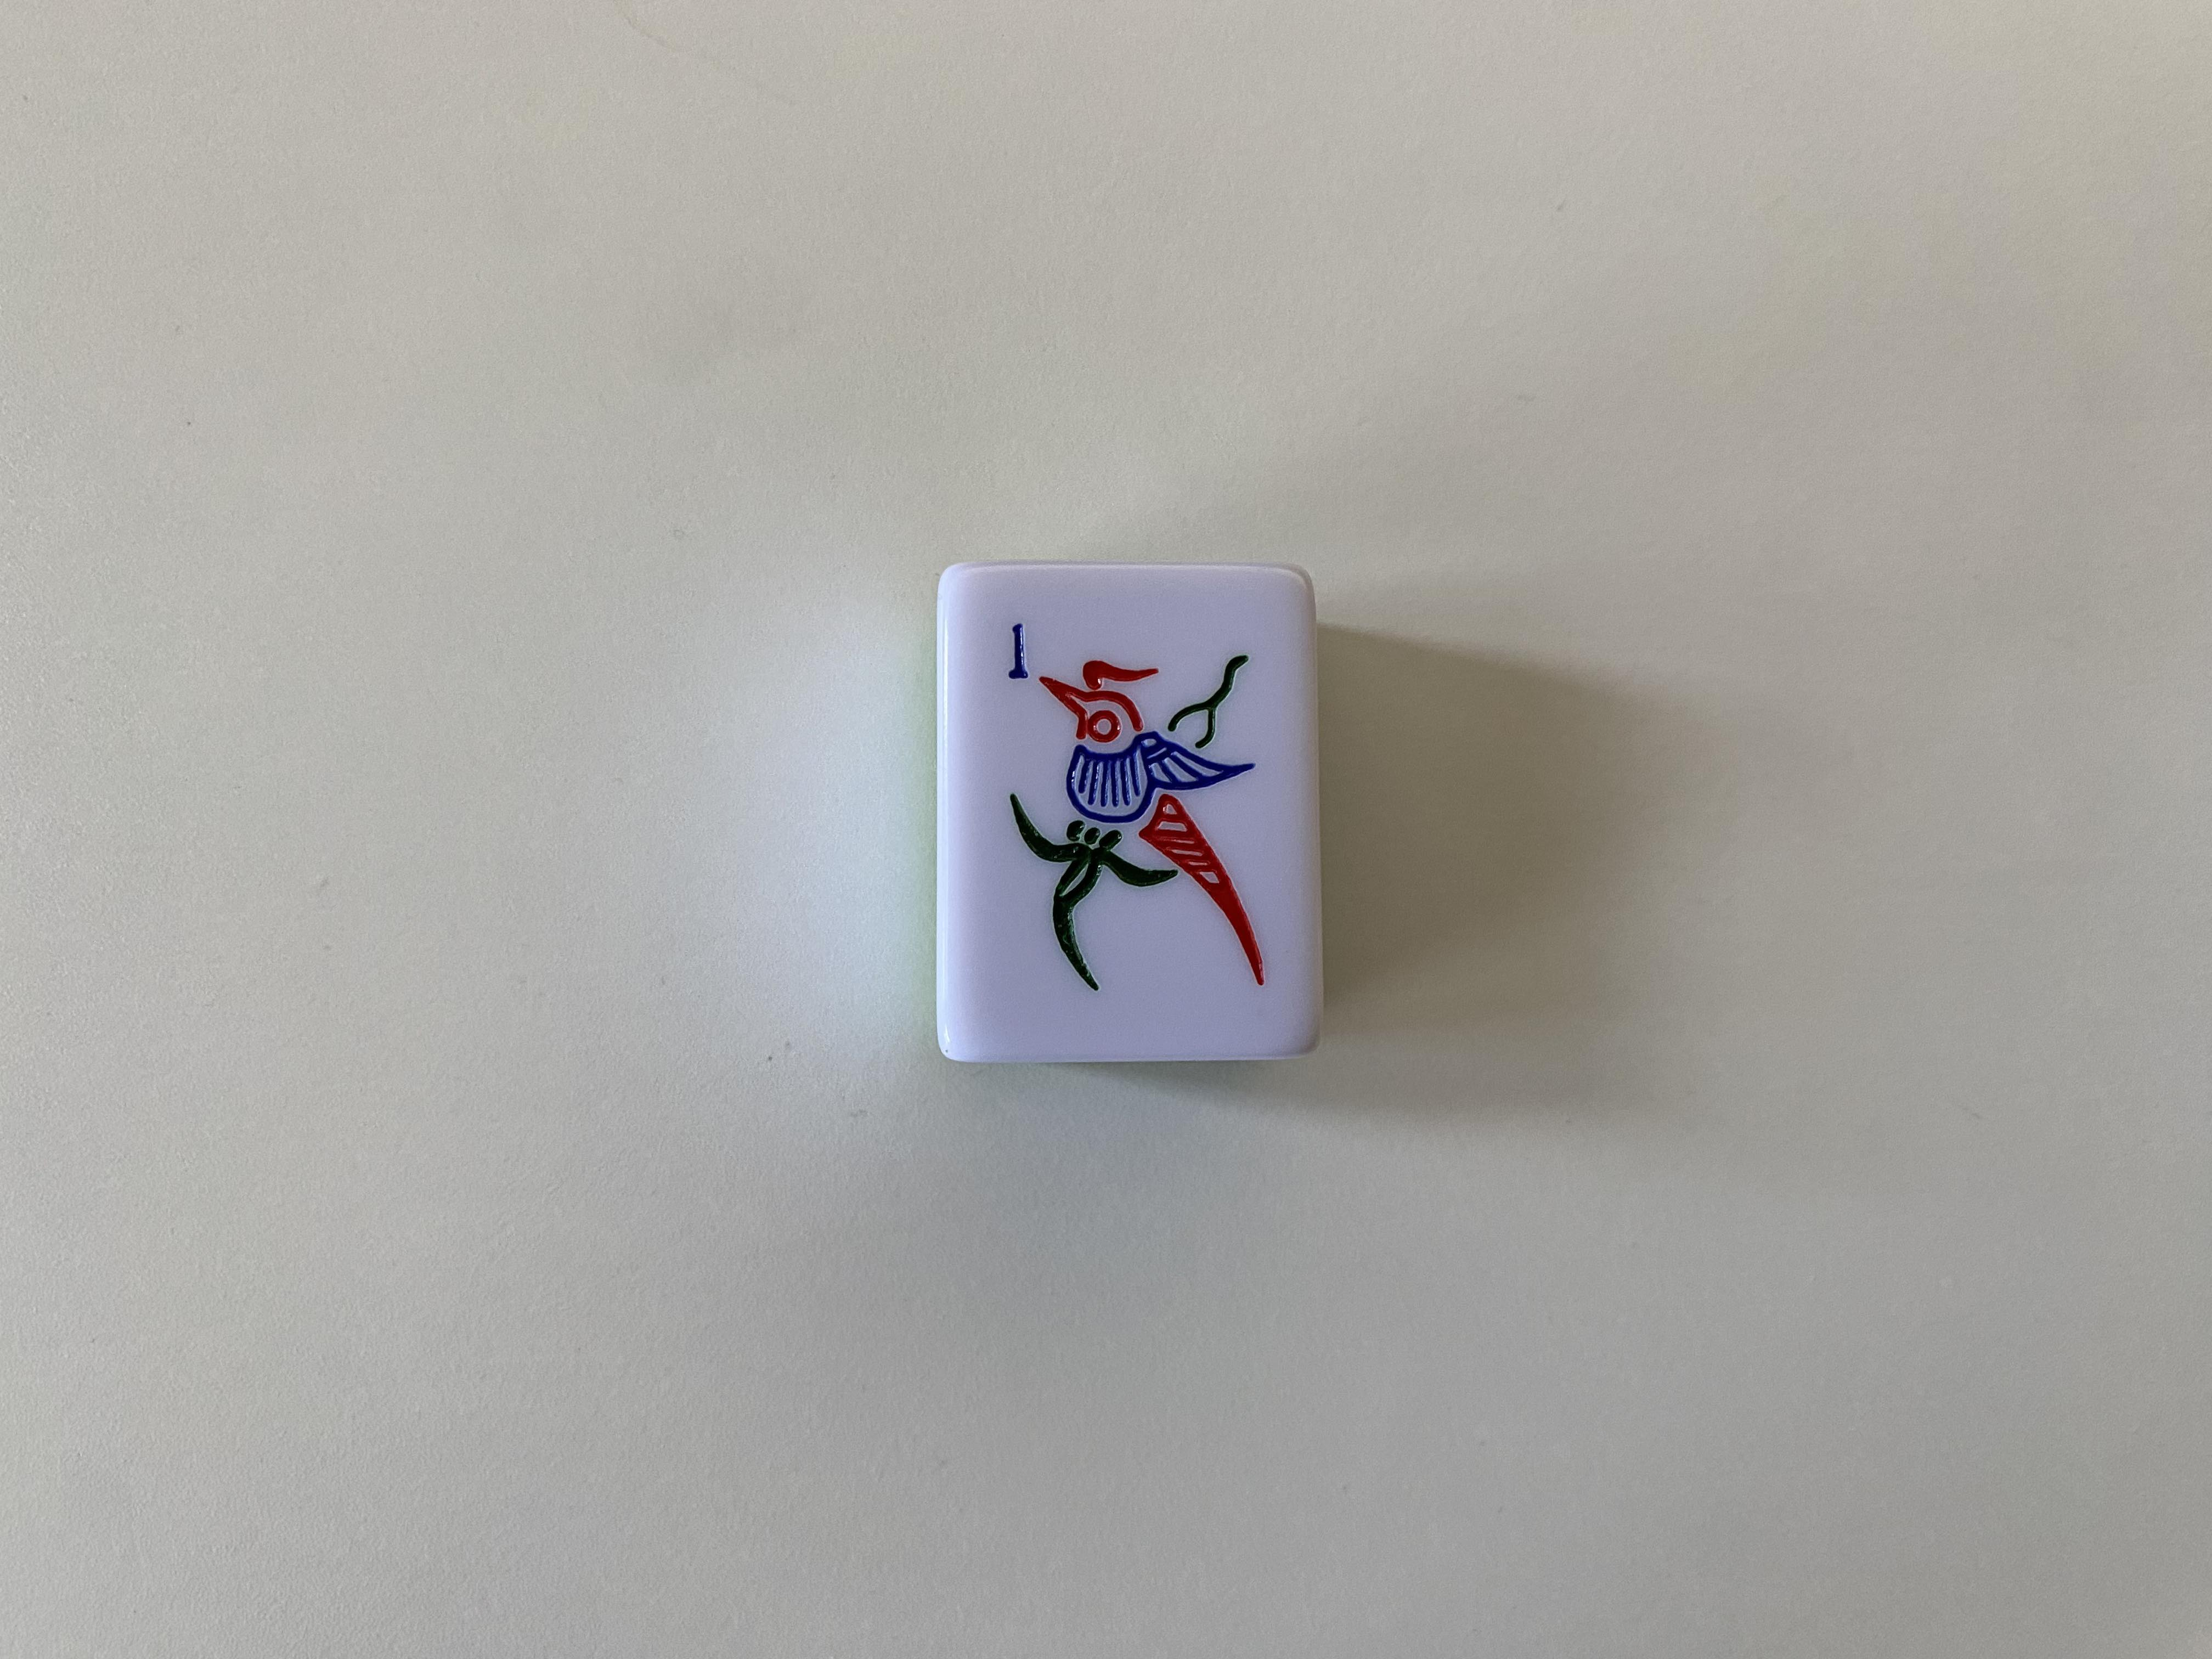bamboo-one: (925, 556, 1331, 1072)
